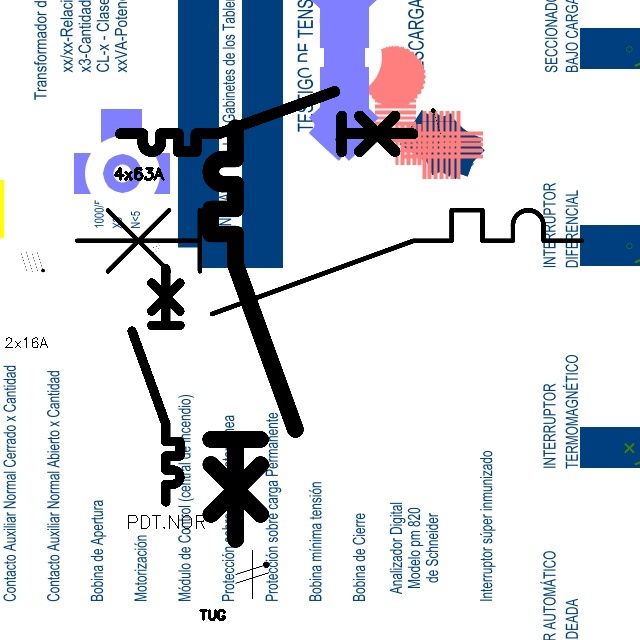interruptor_termomagnetico: (64, 197, 595, 327), (200, 117, 306, 550), (113, 84, 420, 159), (126, 262, 186, 508)
